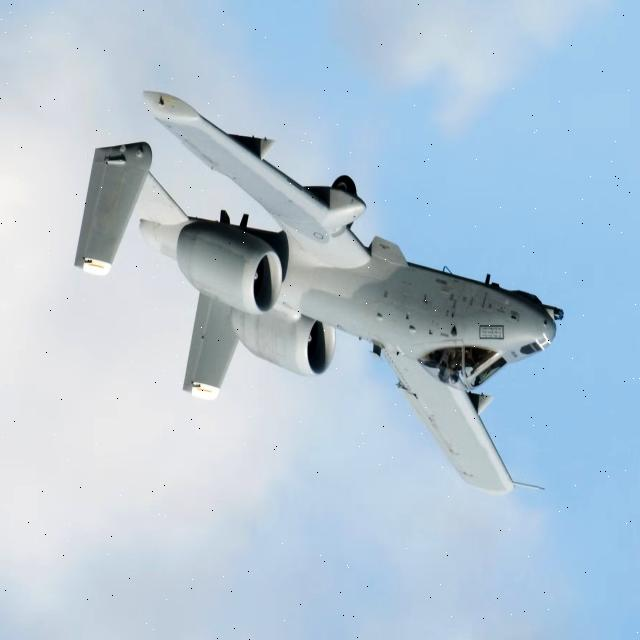A10: (58, 57, 572, 511)
